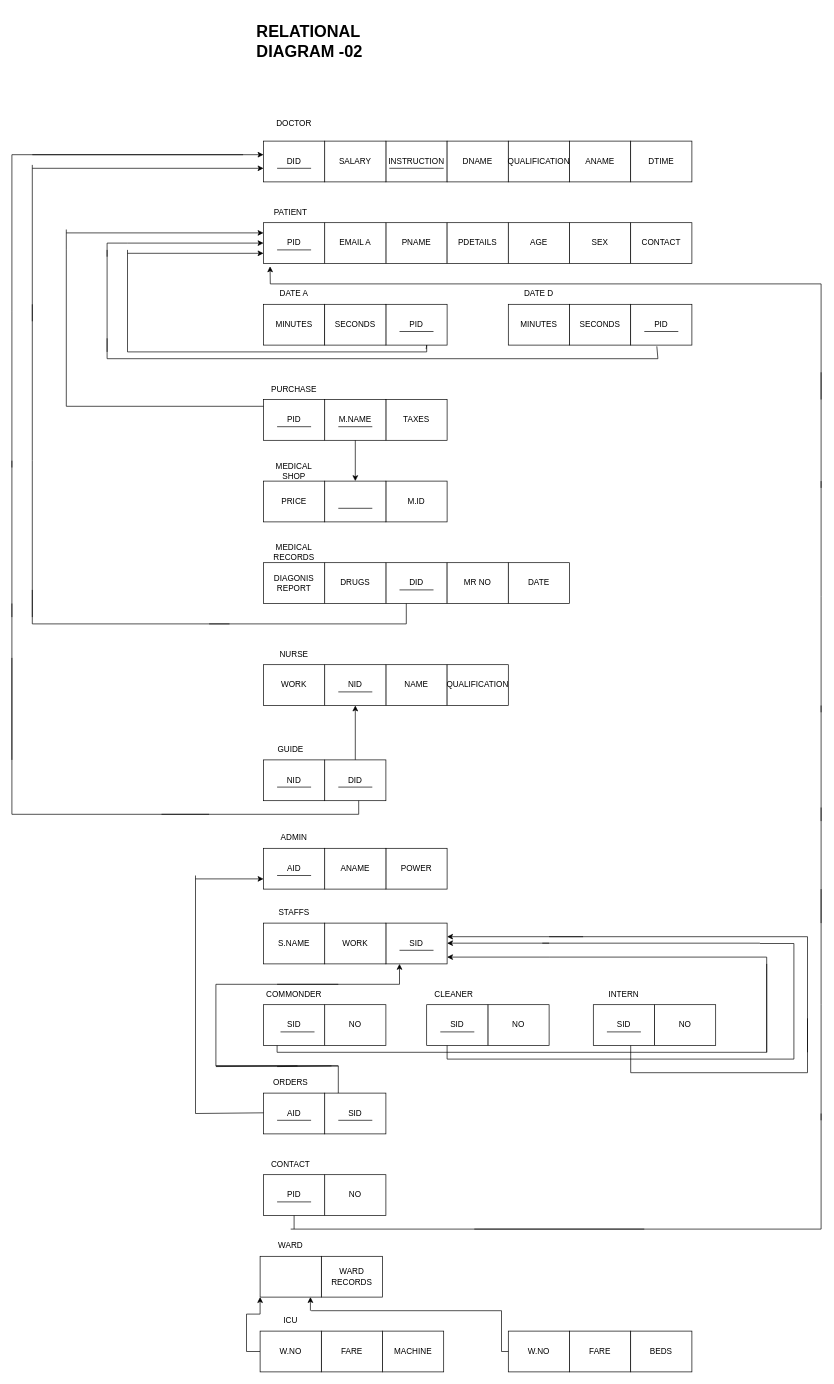
This 834x1384 diagram has some shape labels left out. Each missing label, with the centre of its shape:
"M,NAME" goes at point (355, 501).
"WARD NO" goes at point (290, 1276).
